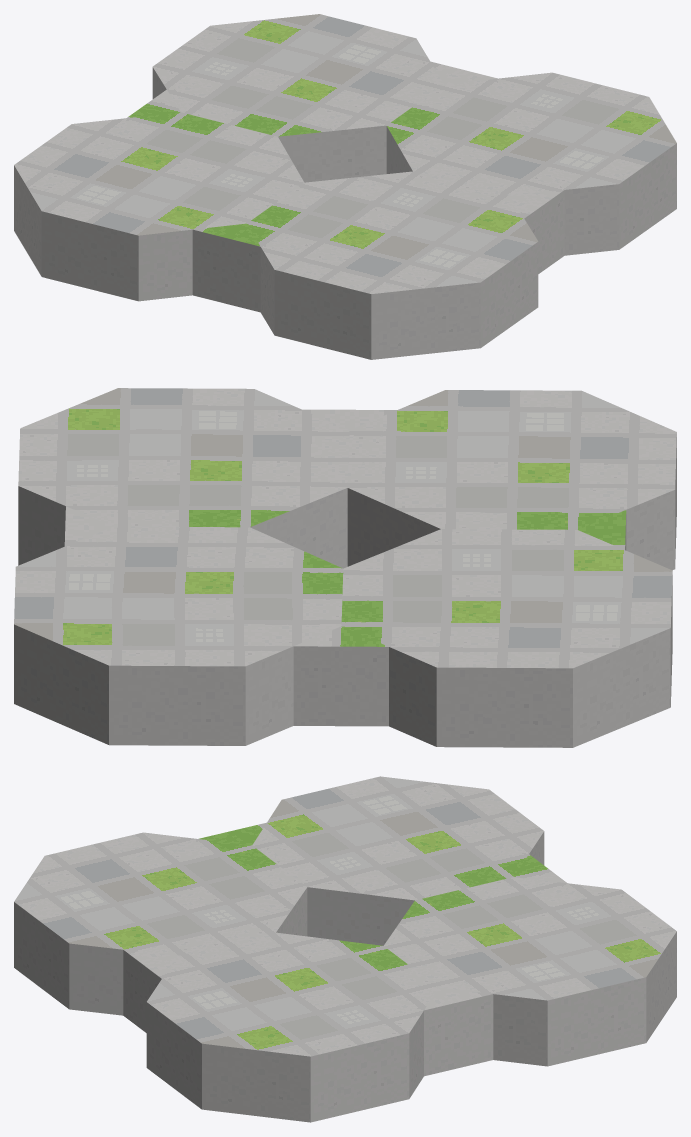
The model's file is kd_stage_1366d7_9_0.glb.
3 renders of one model, top to bottom at view 1: azimuth 30°, elevation 25°; view 2: azimuth 150°, elevation 25°; view 3: azimuth 270°, elevation 25°, orthographic. The views are drawn at different scales.
Visible parts, largest first — view 1: kd_stage_1366d7_9_0; view 2: kd_stage_1366d7_9_0; view 3: kd_stage_1366d7_9_0.
Boxes of the visible parts, box(x1,y1,x2,y2) form: kd_stage_1366d7_9_0: box(14, 14, 676, 359); kd_stage_1366d7_9_0: box(14, 388, 676, 747); kd_stage_1366d7_9_0: box(14, 776, 676, 1122).
Size of the model in its own units: 335 by 36.74 by 335.
Materials: 1 (1 with a texture image).
